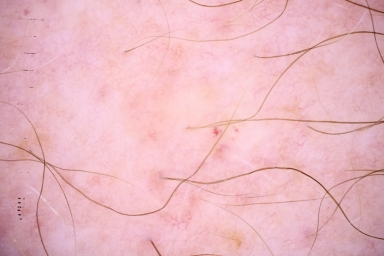seborrheic keratosis: (19, 125, 52, 162), (221, 227, 250, 252)
